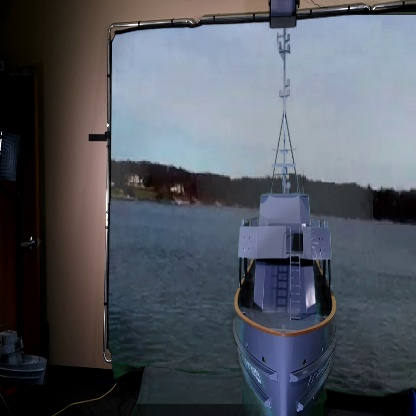YP689: (230, 29, 341, 416)
